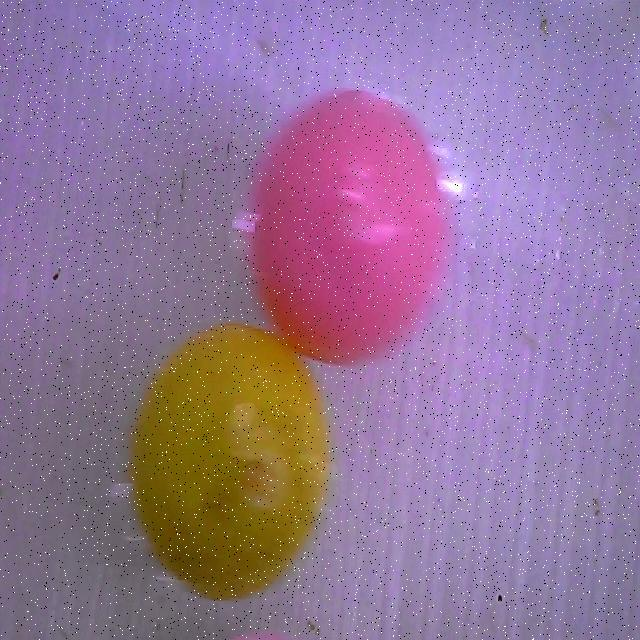beads: (93, 304, 363, 622), (253, 89, 453, 363)
